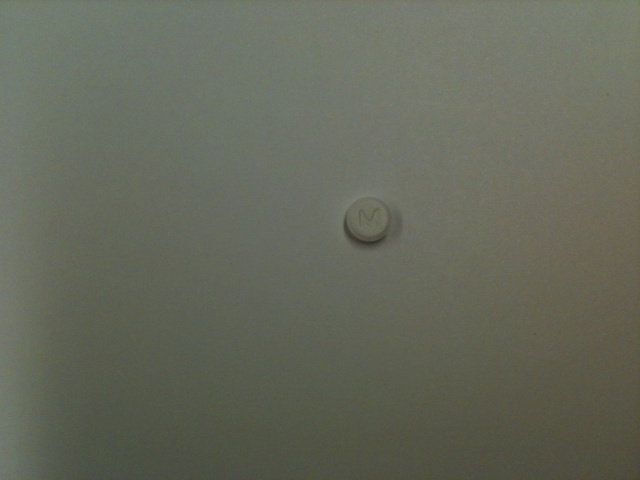M: (352, 206, 384, 230)
